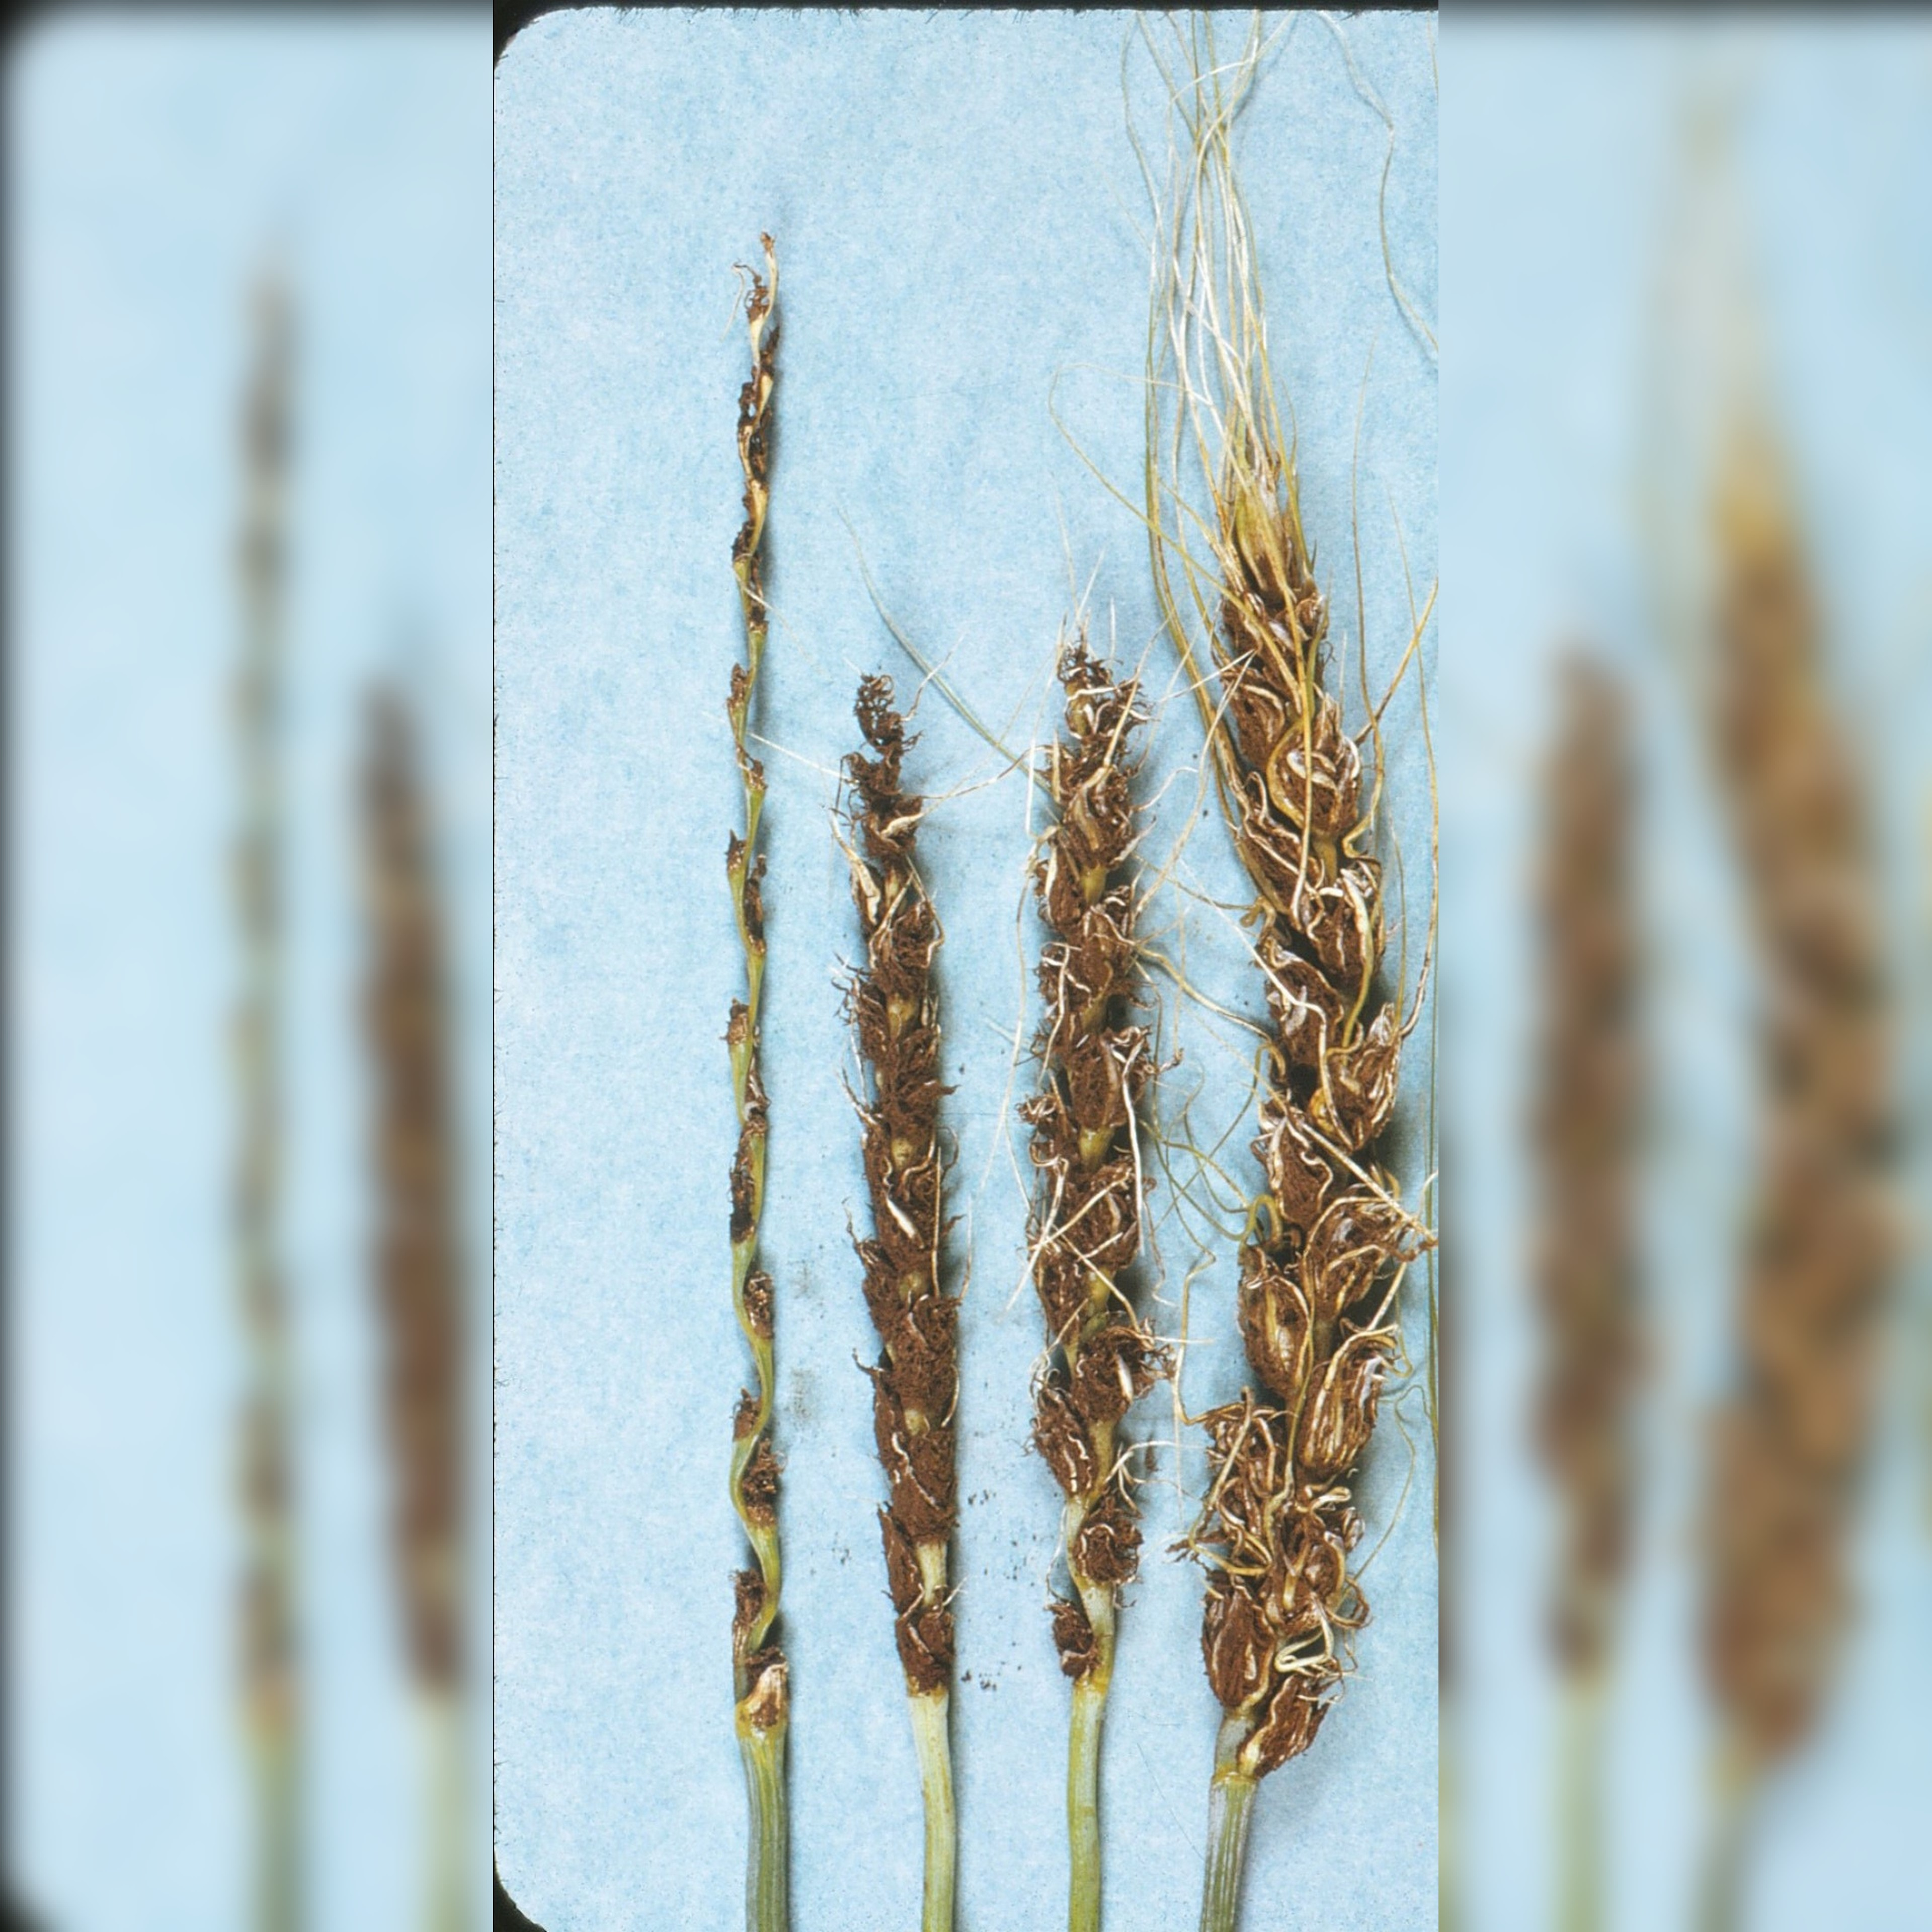Wheat Loose Smut: (800, 540, 1175, 1744), (1155, 416, 1477, 1769)
